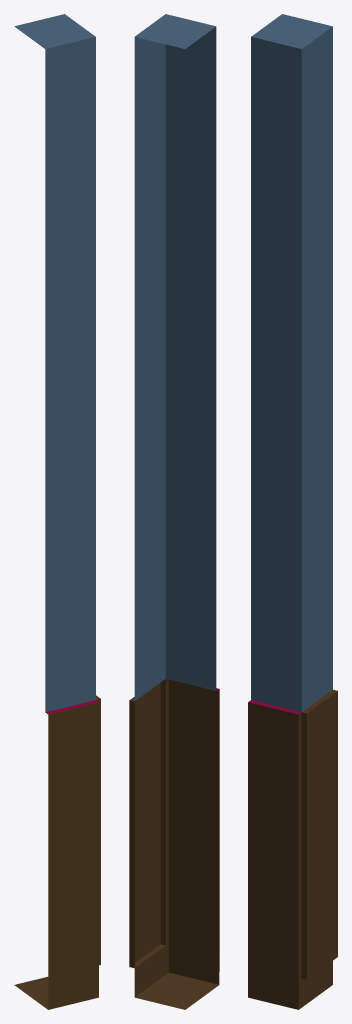
Rendered from Connector2x.fbx.
3 renders of one model, left to right at view 1: azimuth 30°, elevation 25°; view 2: azimuth 150°, elevation 25°; view 3: azimuth 330°, elevation 25°, orthographic.
Visible parts, largest first — view 1: pCube1; view 2: pCube1; view 3: pCube1.
Boxes of the visible parts, x1,y1,x2,y2 form: pCube1: (14, 14, 100, 1009); pCube1: (129, 14, 219, 1009); pCube1: (248, 14, 337, 1009).
Size of the model in its own units: 1.03 by 17 by 1.1.
